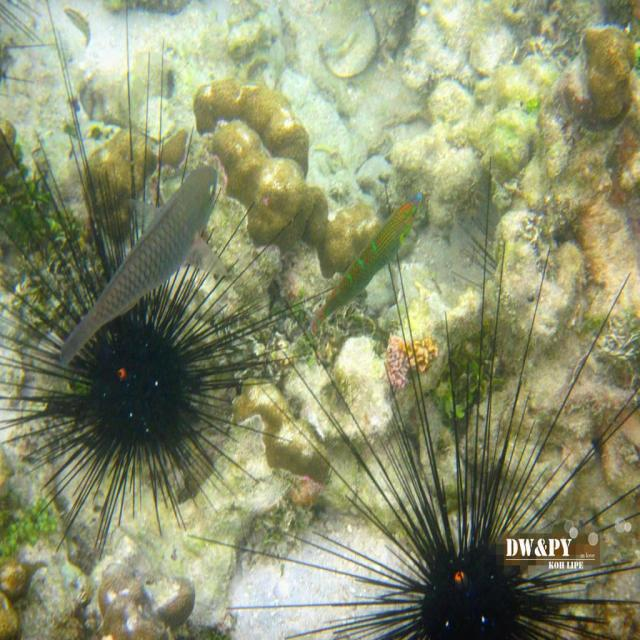Urchin: (6, 107, 316, 561), (277, 252, 633, 632)
